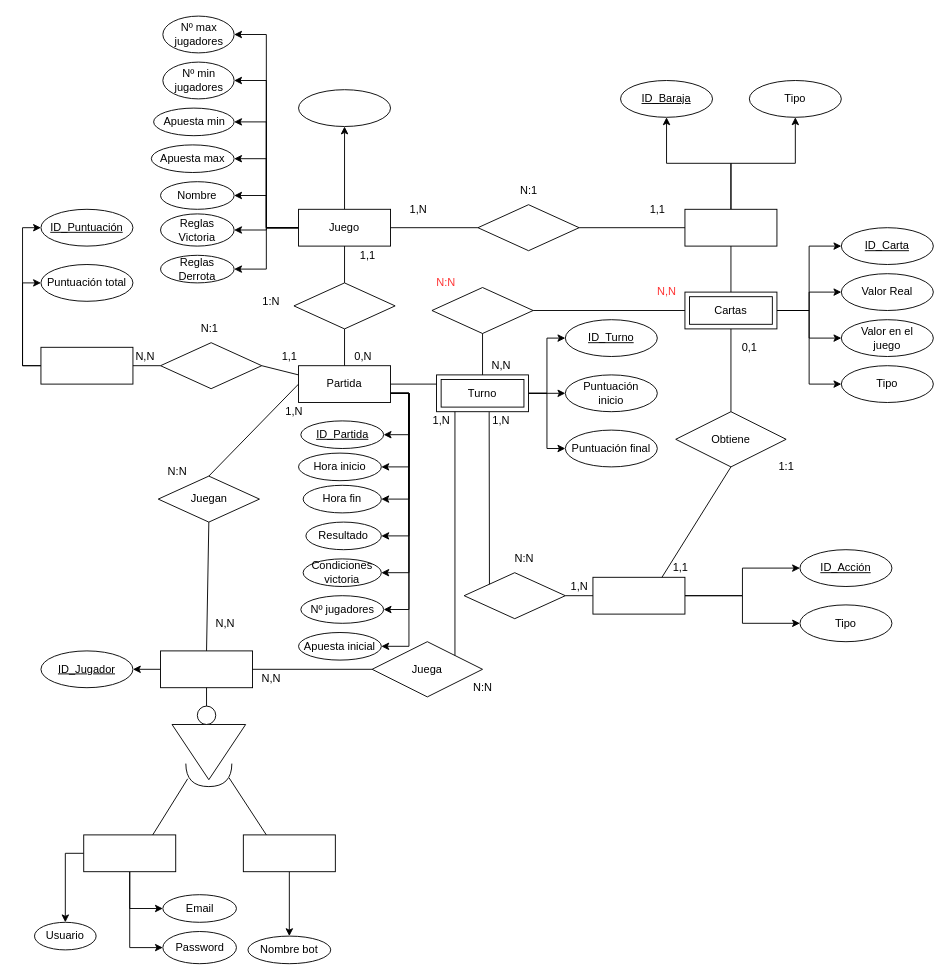
This 949x980 diagram has some shape labels left out. The centre of each missing label's shape, as x and y in pixels:
Acción: (x=638, y=595)
Baraja: (x=730, y=227)
ID_Juego: (x=344, y=107)
Jugador Bot: (x=288, y=853)
Jugador Humano: (x=129, y=853)
Jugadores: (x=206, y=669)
Puntuación: (x=86, y=365)
Realiza: (x=514, y=595)
Reparte: (x=482, y=310)
Se consigue: (x=211, y=365)
Se han jugado: (x=344, y=305)
Usa: (x=528, y=227)
